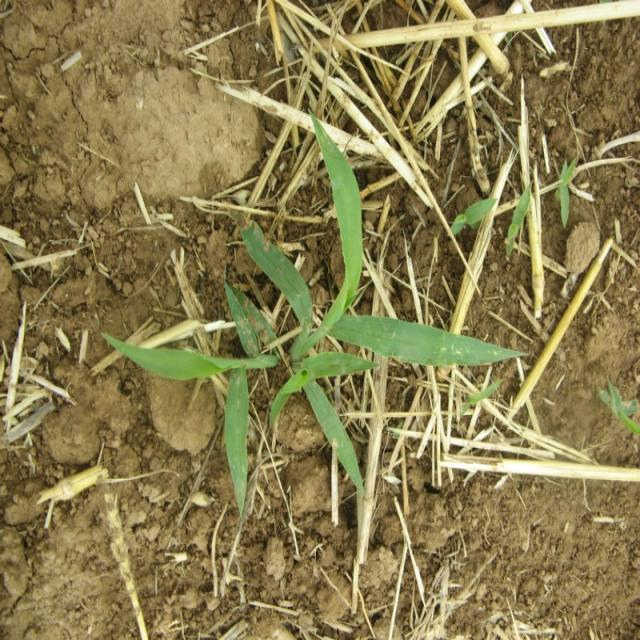bg: (107, 116, 525, 509)
